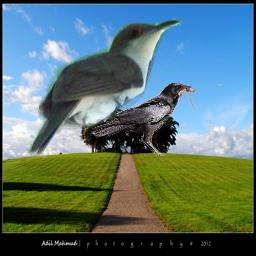Crow: (90, 80, 203, 156)
Cuckoo: (26, 18, 183, 159)
